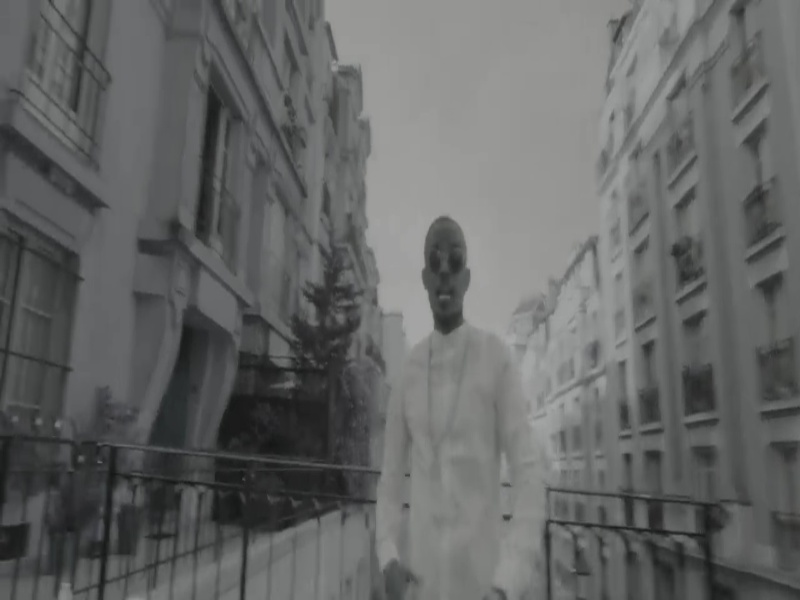TsisyArotava: (415, 208, 485, 336)
